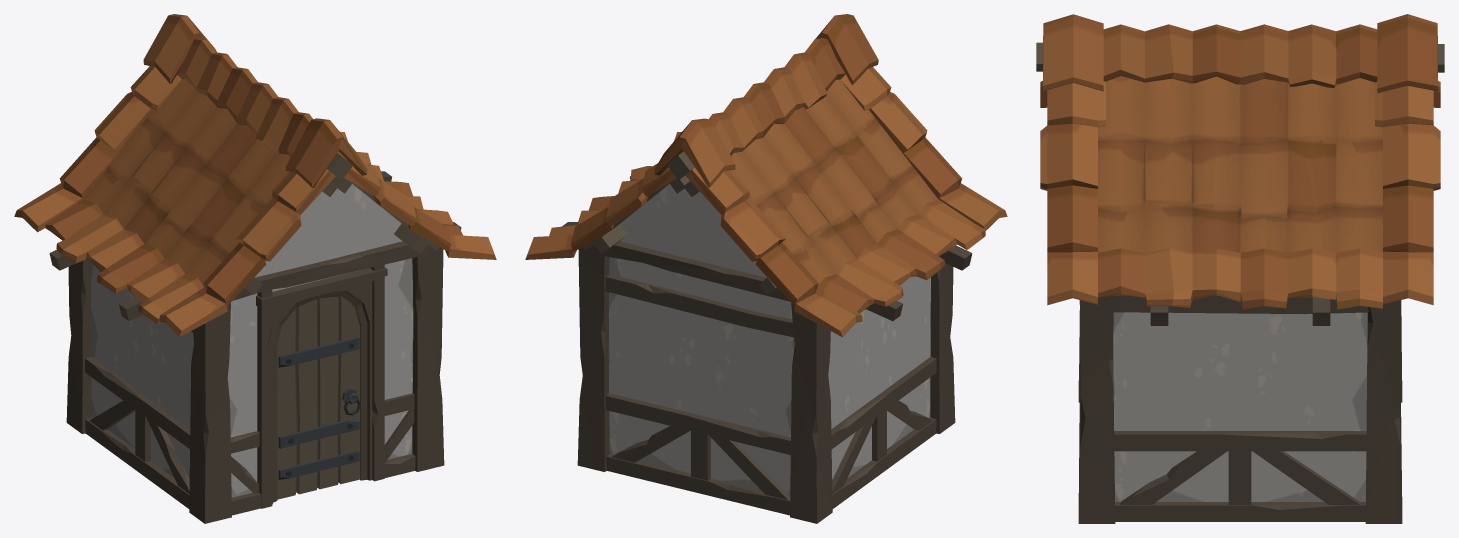
The model's file is SM_Bld_Preset_Outhouse_01_Optimized.fbx.
3 renders of one model, left to right at view 1: azimuth 30°, elevation 25°; view 2: azimuth 150°, elevation 25°; view 3: azimuth 270°, elevation 25°, orthographic. The views are drawn at different scales.
Parts seen in each view (by area): view 1: SM_Bld_Preset_Outhouse_01_Optimized; view 2: SM_Bld_Preset_Outhouse_01_Optimized; view 3: SM_Bld_Preset_Outhouse_01_Optimized.
Boxes of the visible parts, <box> form: SM_Bld_Preset_Outhouse_01_Optimized: <box>14,14,496,523</box>; SM_Bld_Preset_Outhouse_01_Optimized: <box>525,14,1007,523</box>; SM_Bld_Preset_Outhouse_01_Optimized: <box>1036,14,1444,523</box>.
Size of the model in its own units: 395 by 423 by 356.
